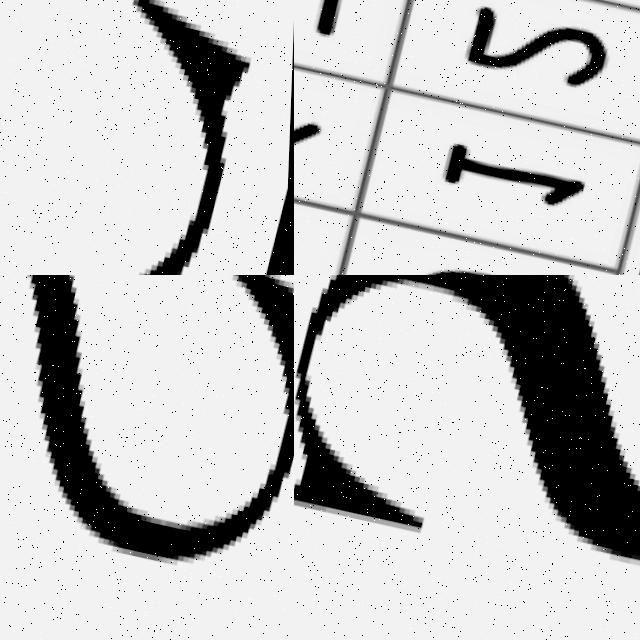0: (406, 257, 561, 275)
1: (439, 136, 597, 218)
2: (463, 0, 619, 96)
6: (294, 72, 333, 170)
C: (129, 0, 253, 275)
S: (294, 275, 640, 623), (0, 275, 294, 640)
